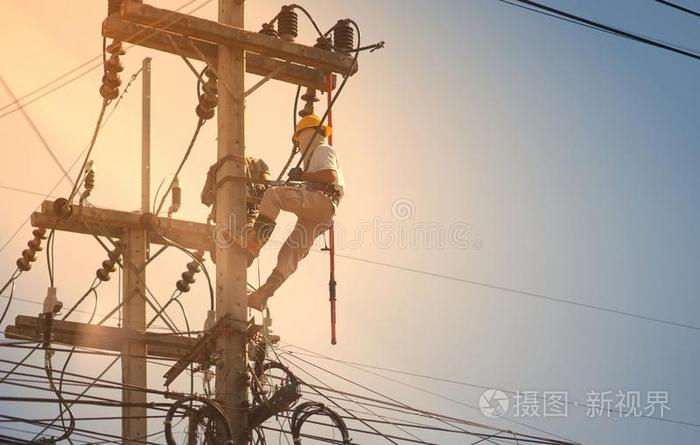insulator: (98, 41, 126, 103), (15, 230, 47, 273), (175, 251, 204, 293), (97, 239, 124, 282), (194, 69, 214, 117)
